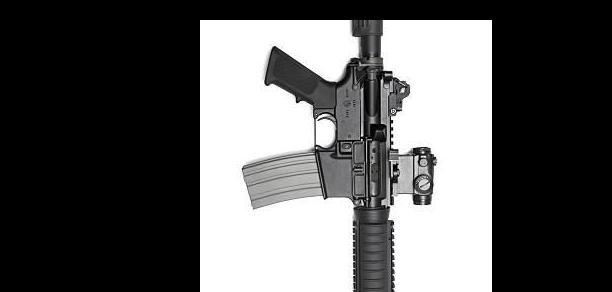larga: (241, 19, 437, 292)
